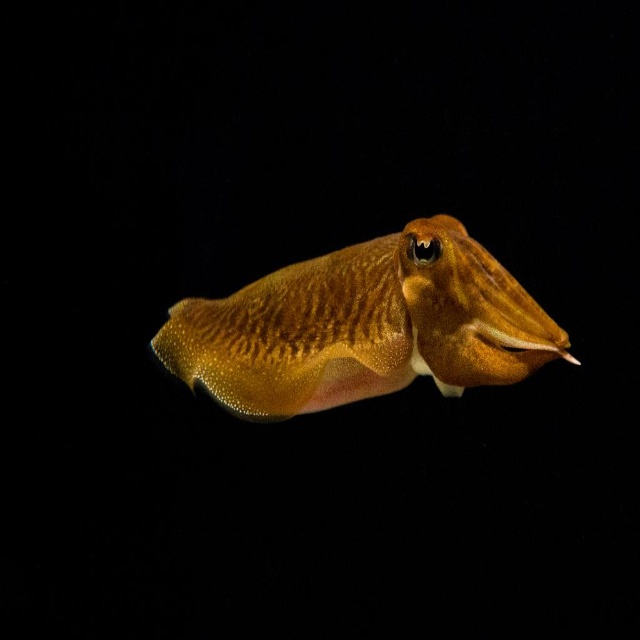Squid: (150, 214, 581, 421)
